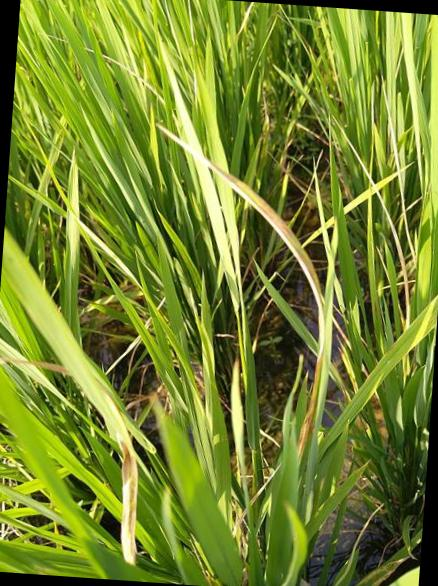Leaf Blight: (156, 124, 324, 460), (89, 389, 137, 567), (1, 357, 70, 374)
